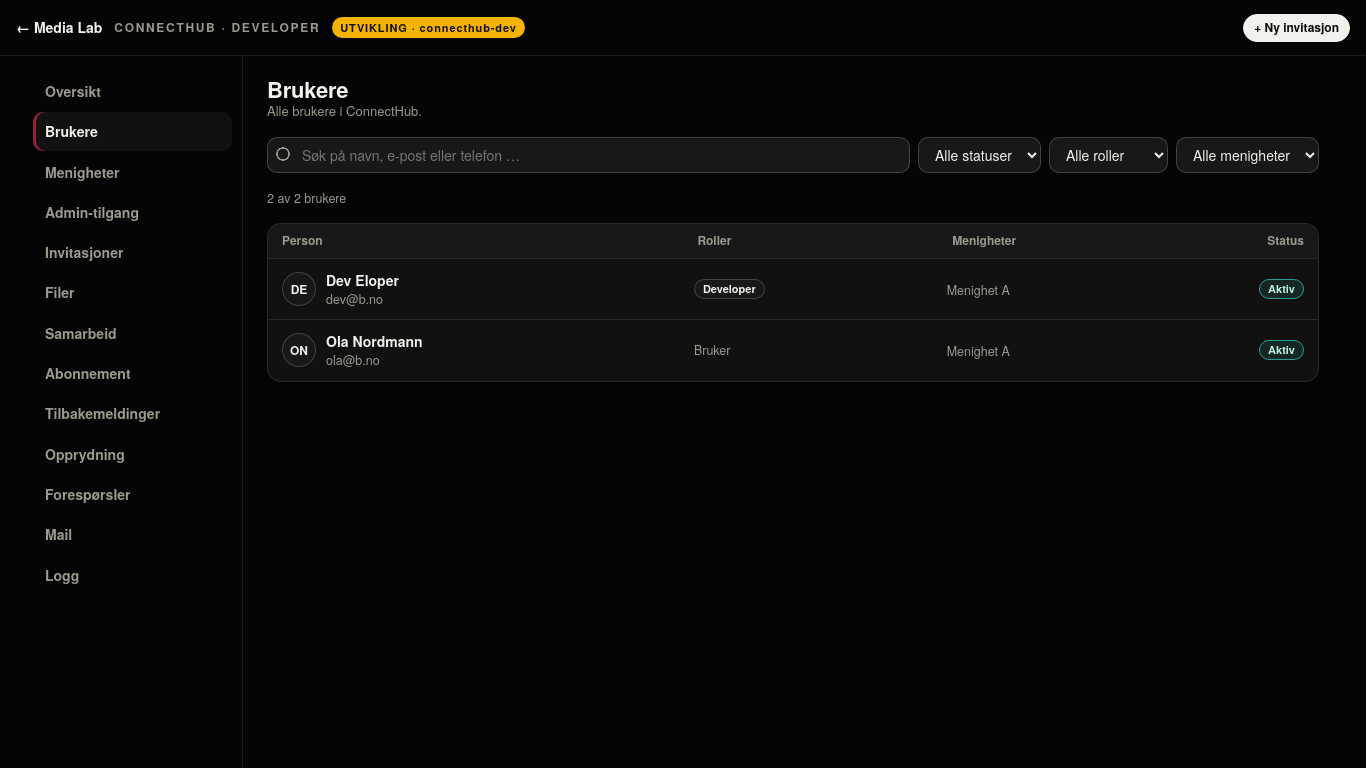
Test: Brukere og invitasjon (ADM-02, ADM-05) › søk og detalj: rolleoppsummering, medlemskap og Developer-handlinger
This screenshot has width=1366, height=768.
Expected: the text "2 av 2 brukere" is shown, x1=267 y1=189 x2=346 y2=207
In the search field: [588, 155] box x1=267 y1=137 x2=910 y2=173, type "912"
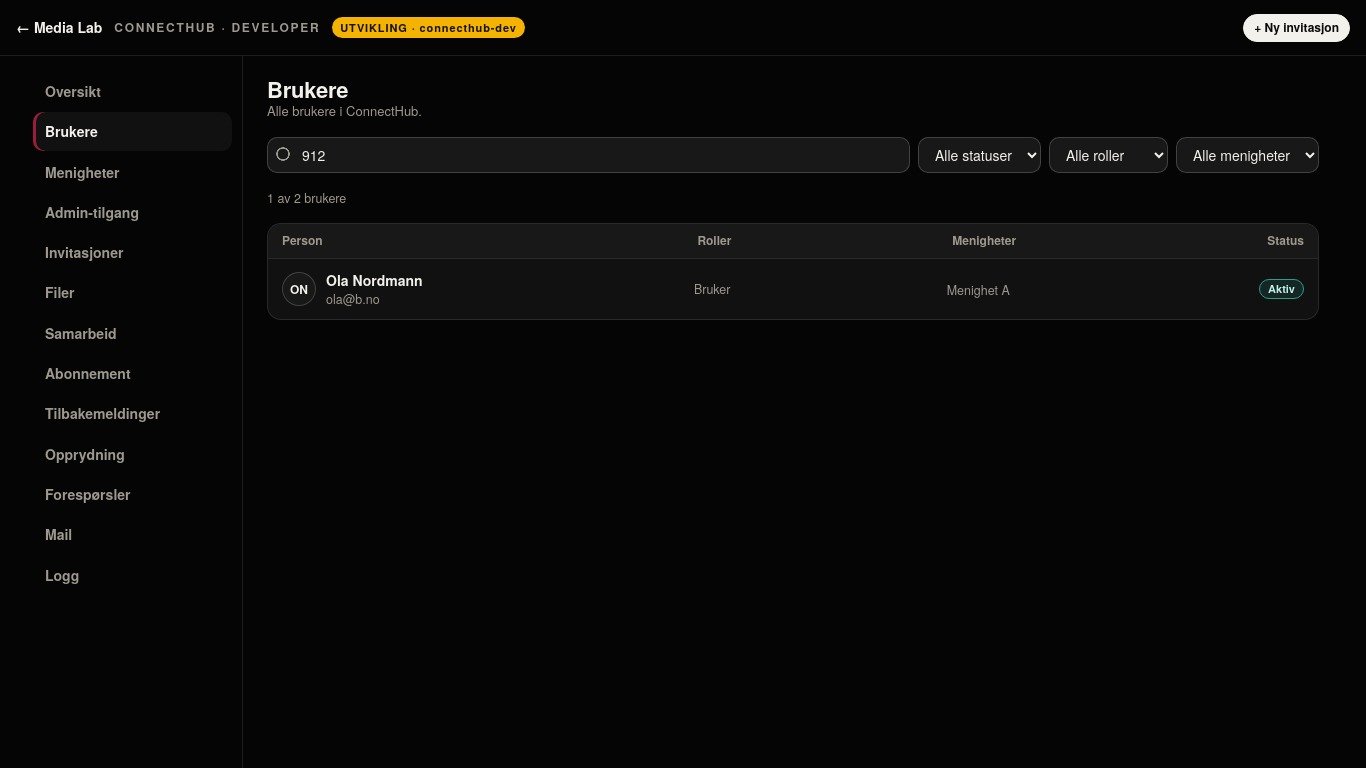
Expected: the text "1 av 2 brukere" is shown, x1=267 y1=189 x2=346 y2=207
Click the text "Ola Nordmann": [374, 280] box x1=326 y1=270 x2=423 y2=290
(page scrolled)
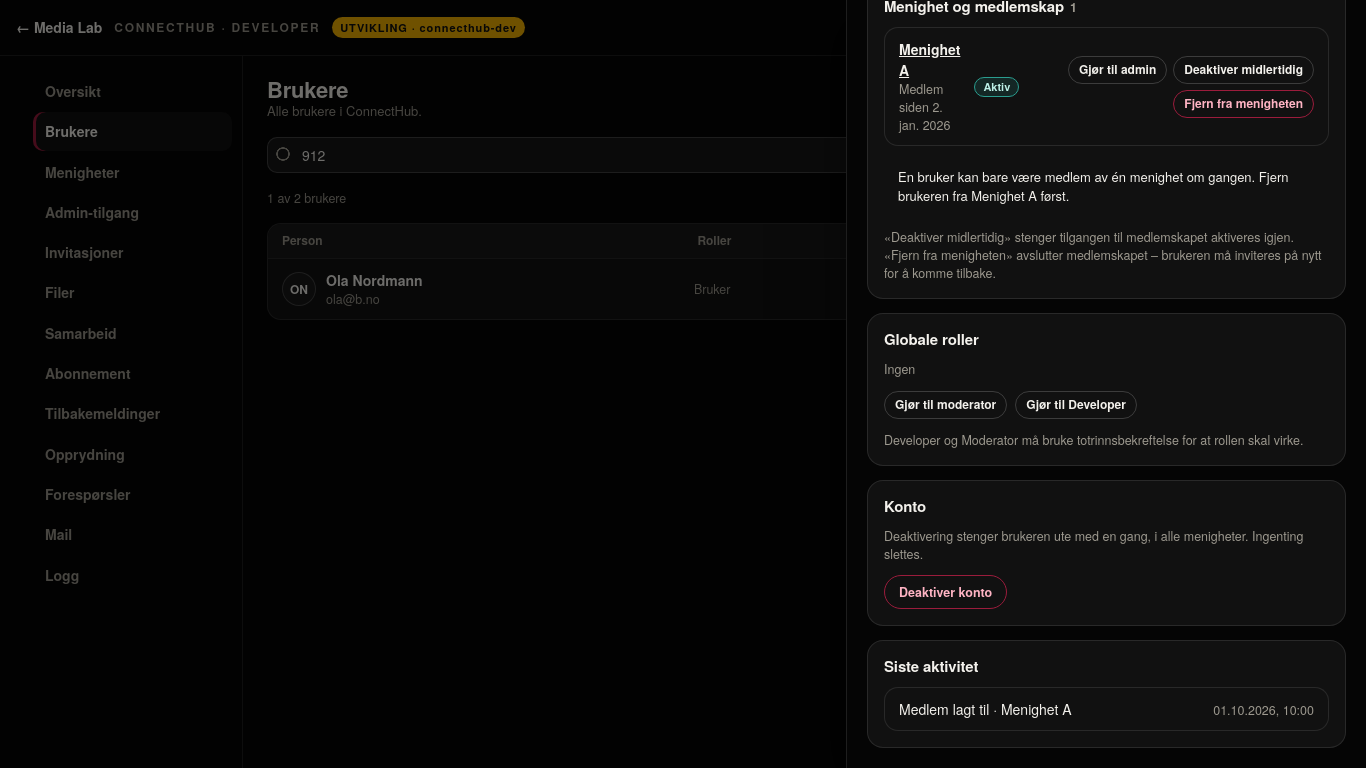
Expected: the button "Gjør til admin" is shown, x1=1068 y1=56 x2=1167 y2=84
Expected: the button "Gjør til moderator" is shown, x1=884 y1=391 x2=1007 y2=419
Expected: the button "Deaktiver konto" is shown, x1=884 y1=575 x2=1007 y2=609
